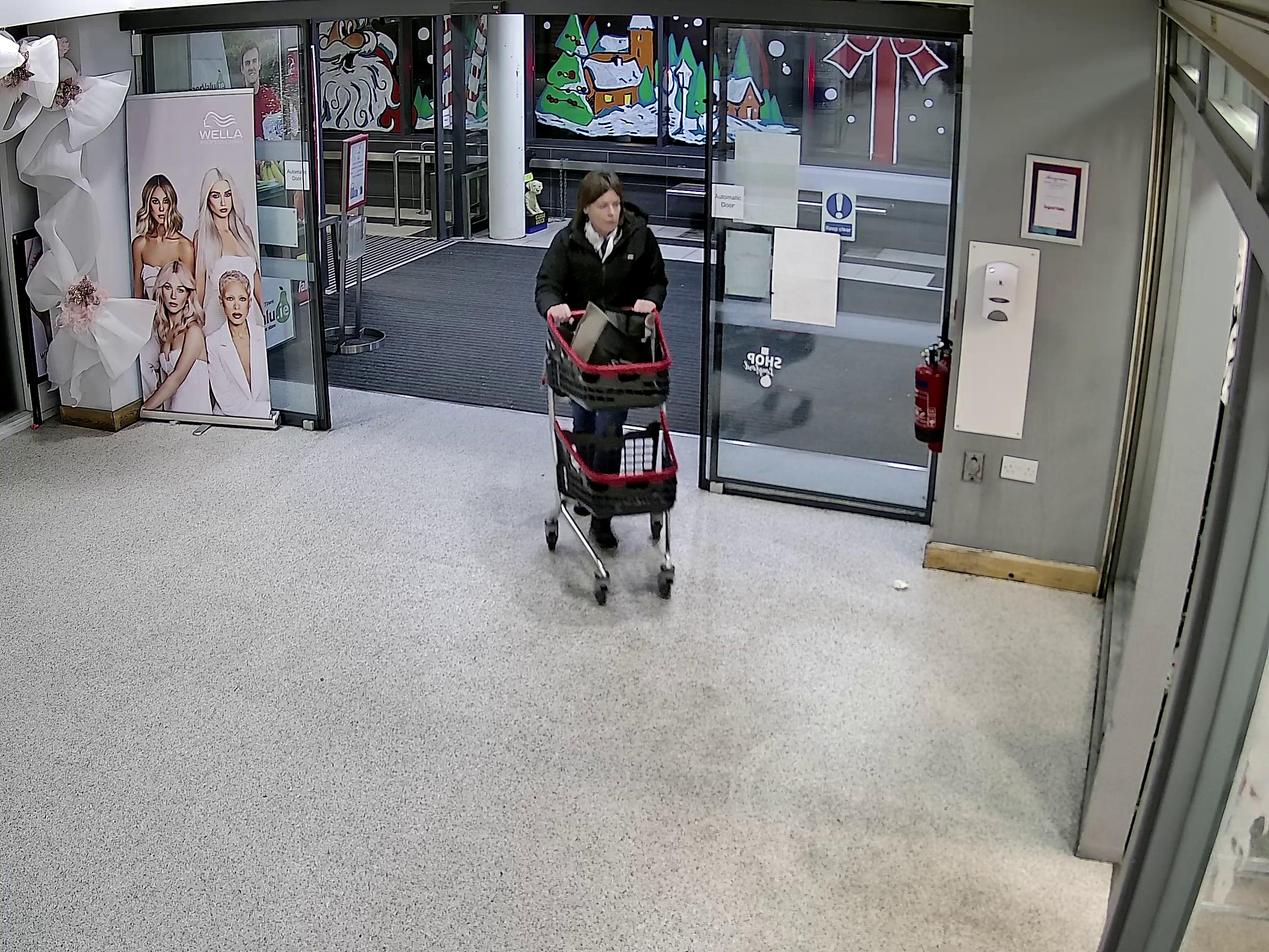person-with-backpack-handbag-and-carrying-item-s-: (572, 301, 656, 400)
